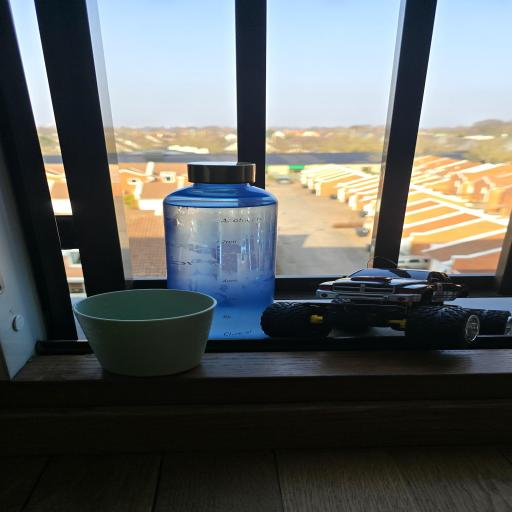bottle: (177, 160, 288, 300)
